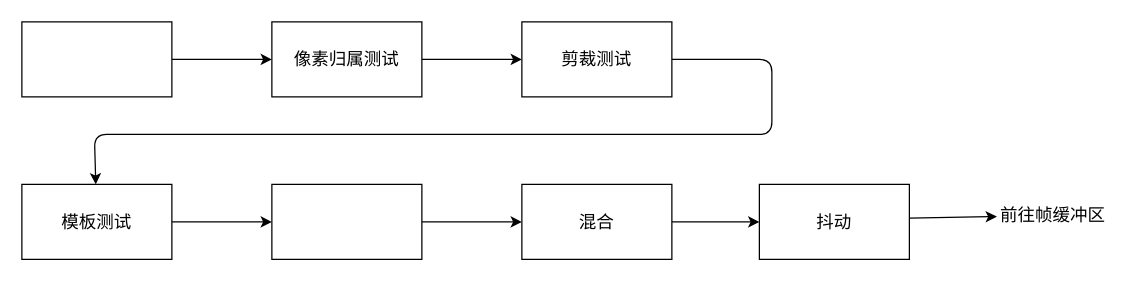
Image size: 1131x281. Some labels were removed from this diagram. The shapes that lost their labels are listed below. From the top down, each one's centre as x and y in pixels, then its label:
At point 96,59: "片段数据".
At point 346,221: "深度测试".
